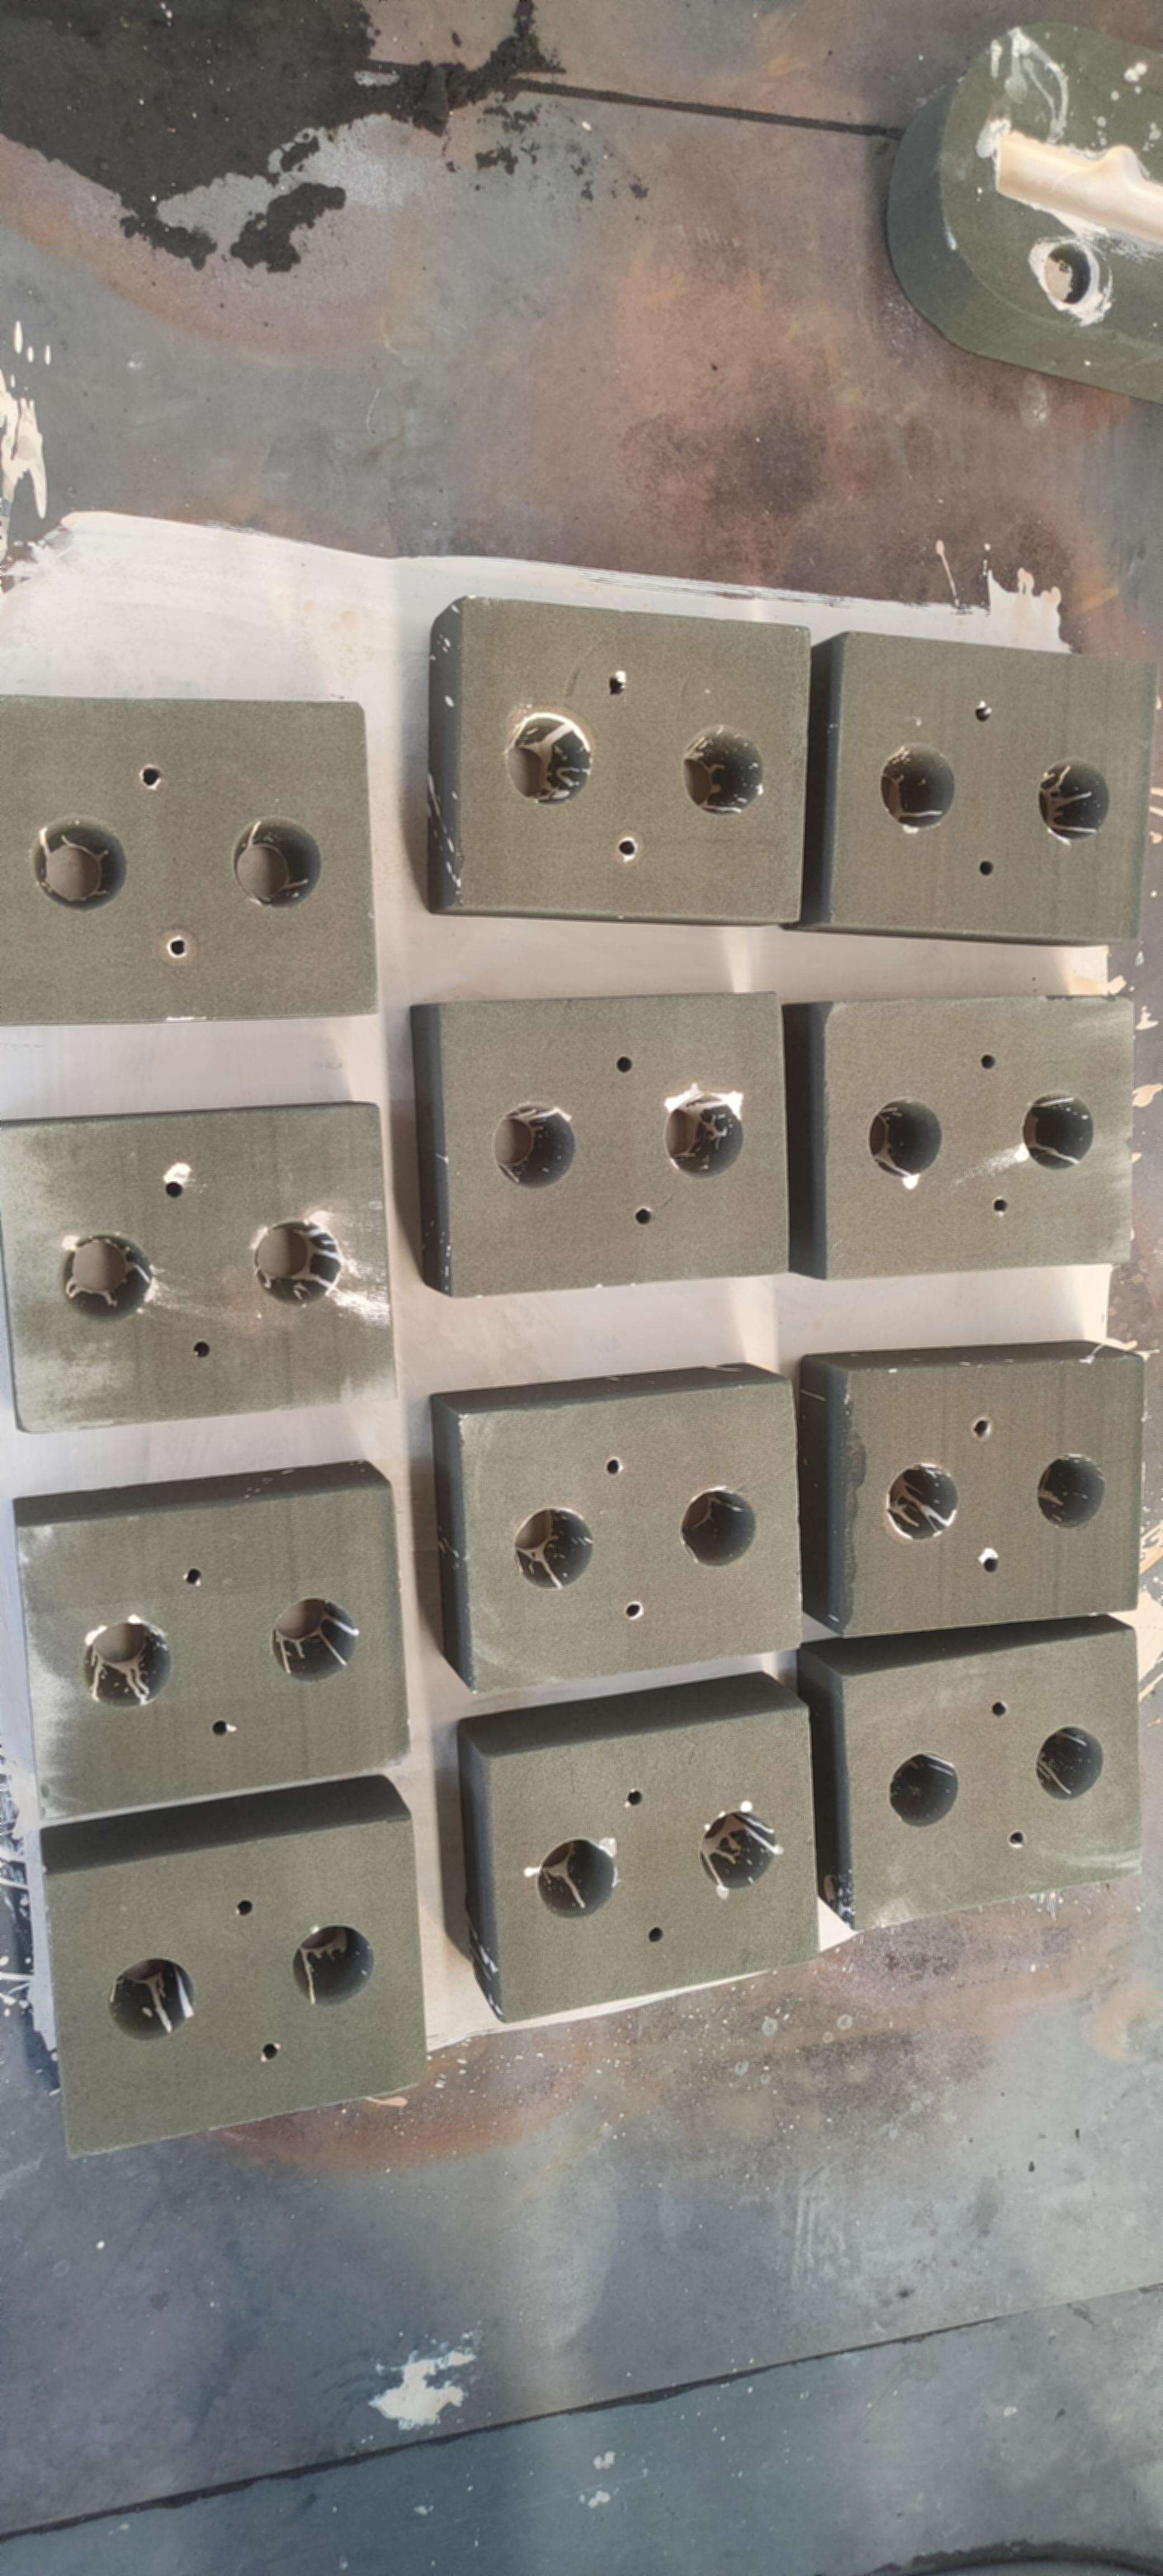pouring hole: (30, 813, 128, 915), (232, 815, 322, 910), (61, 1234, 153, 1324), (504, 711, 591, 805), (84, 1620, 172, 1709), (255, 1219, 342, 1306), (268, 1597, 355, 1684), (107, 1957, 195, 2042), (493, 1099, 577, 1189), (683, 724, 765, 817), (292, 1924, 375, 2006), (664, 1094, 744, 1178), (513, 1508, 593, 1589), (879, 744, 956, 828), (866, 1097, 945, 1178), (537, 1837, 614, 1919), (680, 1487, 757, 1567), (698, 1810, 775, 1888), (1038, 757, 1109, 839), (1022, 1091, 1094, 1170), (885, 1464, 958, 1541), (1037, 1454, 1106, 1529), (889, 1751, 958, 1825), (1035, 1723, 1102, 1799)
